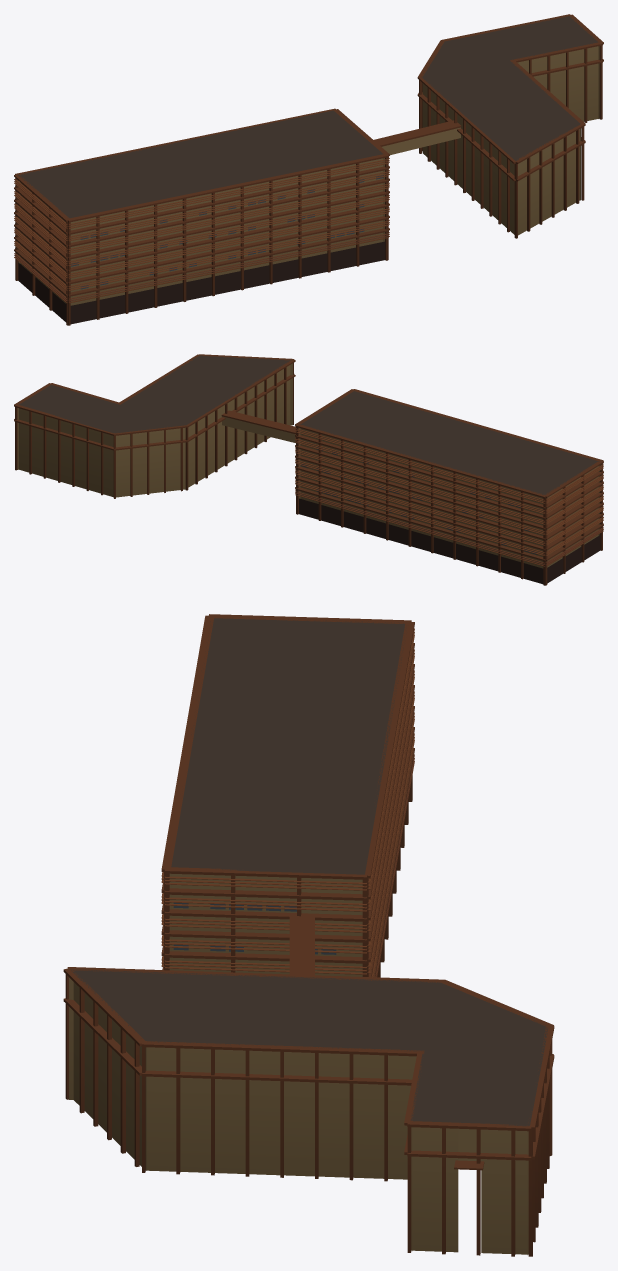
File: deerehq.glb
The picture shows the model from 3 angles, top to bottom: view 1: azimuth 30°, elevation 25°; view 2: azimuth 150°, elevation 25°; view 3: azimuth 270°, elevation 25°; orthographic projection. The views are drawn at different scales.
Parts seen in each view (by area): view 1: deerehq_lod0; view 2: deerehq_lod0; view 3: deerehq_lod0.
Part boxes in pixels (box(x1,y1,x2,y2)): deerehq_lod0: box(14, 14, 603, 325); deerehq_lod0: box(14, 354, 603, 585); deerehq_lod0: box(63, 614, 554, 1256).
Size of what is drawn, in the model's own units: 204 by 34 by 84.77.
